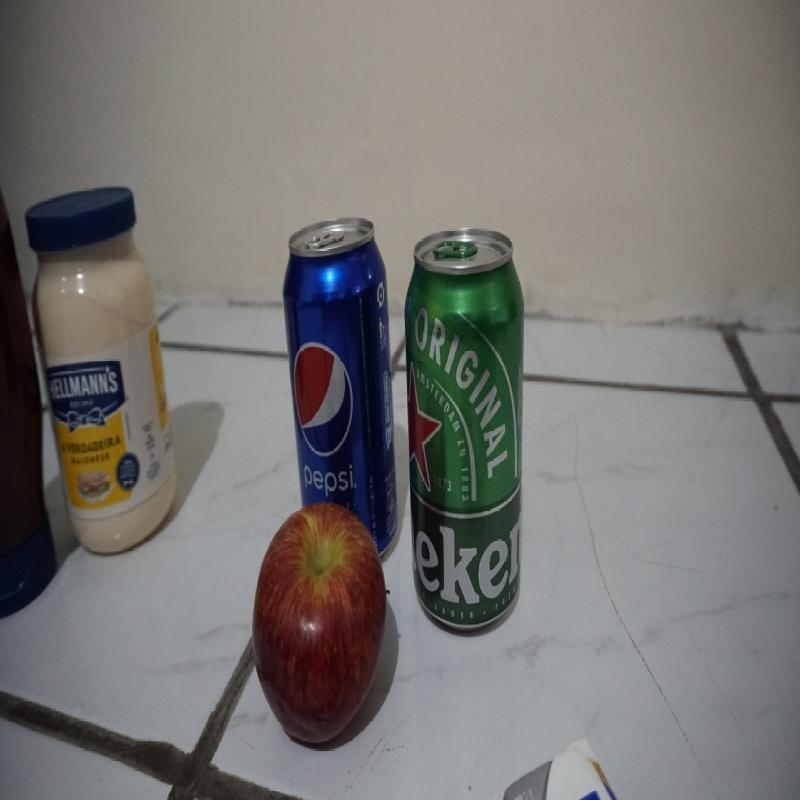Apple: (251, 505, 386, 744)
Beer can: (404, 228, 522, 634)
Ketchup: (0, 178, 54, 617)
Mayonnaise: (30, 185, 178, 550)
Soap: (504, 741, 615, 800)
Soda can: (284, 220, 395, 520)
